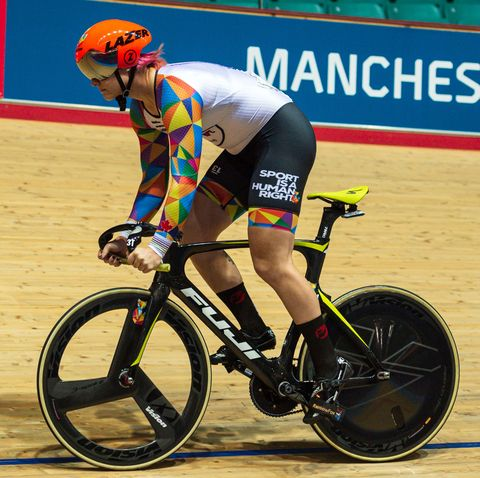bicycle: (28, 175, 459, 477)
